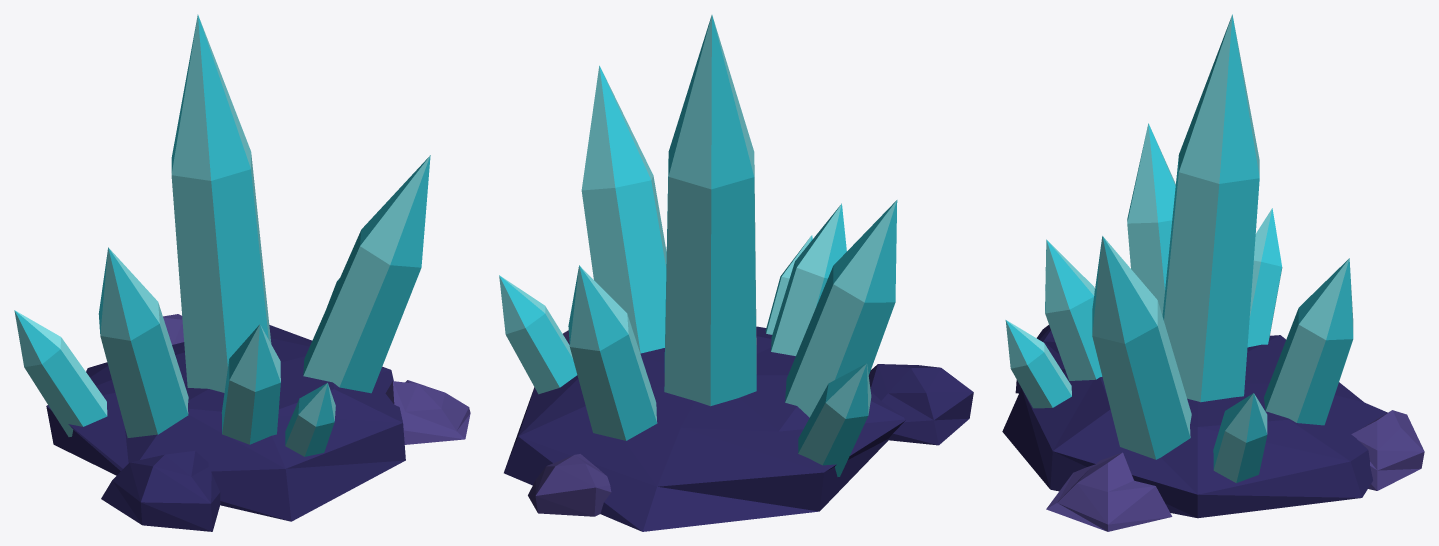
File: Mine_Crystal_Cluster_Large.obj
3 renders of one model, left to right at view 1: azimuth 30°, elevation 25°; view 2: azimuth 150°, elevation 25°; view 3: azimuth 270°, elevation 25°, orthographic. The views are drawn at different scales.
Parts seen in each view (by area): view 1: Mine_Crystal_Cluster_Large; view 2: Mine_Crystal_Cluster_Large; view 3: Mine_Crystal_Cluster_Large.
Part boxes in pixels (bbox=[...]): Mine_Crystal_Cluster_Large: bbox=[14, 14, 470, 531]; Mine_Crystal_Cluster_Large: bbox=[499, 15, 973, 531]; Mine_Crystal_Cluster_Large: bbox=[1002, 14, 1424, 531].
Size of the model in its own units: 1.47 by 1.58 by 1.41.
